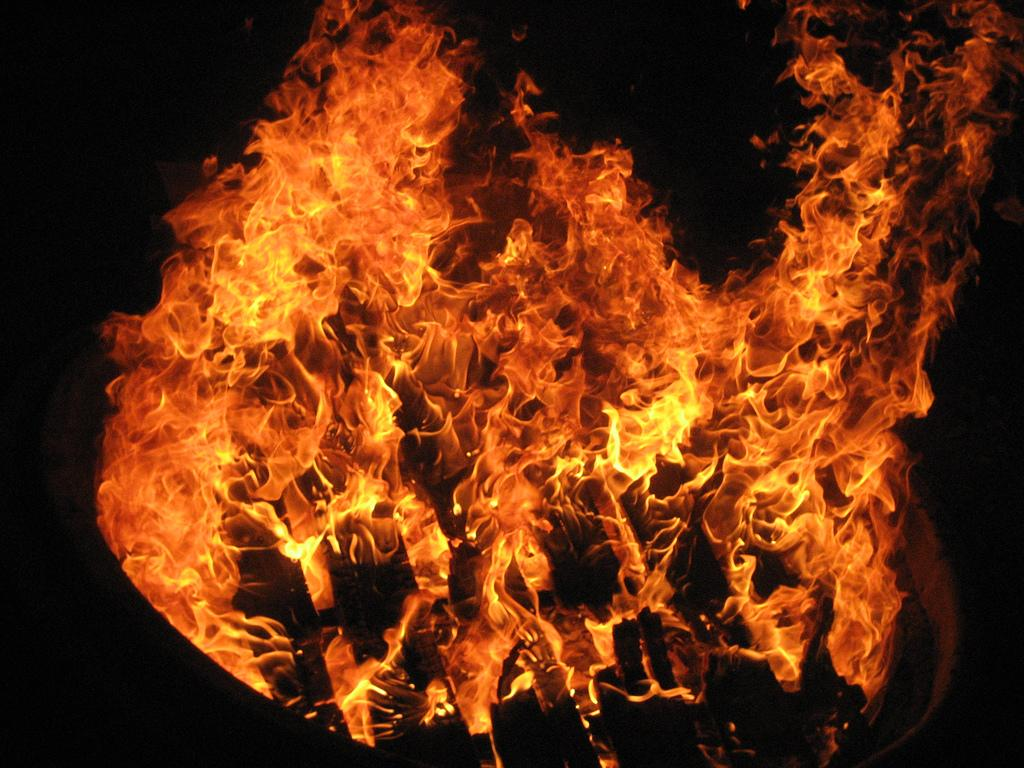fire: (502, 294, 770, 452), (234, 114, 446, 278), (134, 380, 224, 584)
